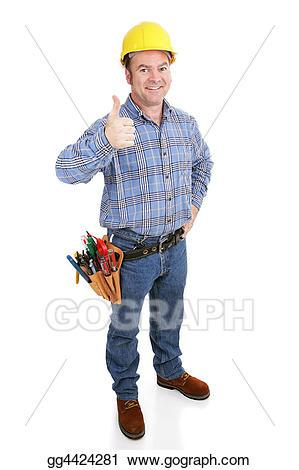helmet: (122, 23, 178, 64)
